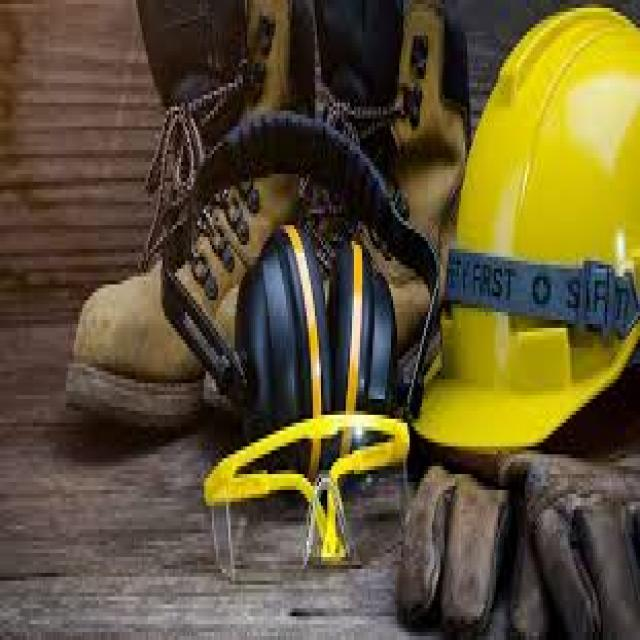Safety-Helmet: (401, 0, 638, 478)
